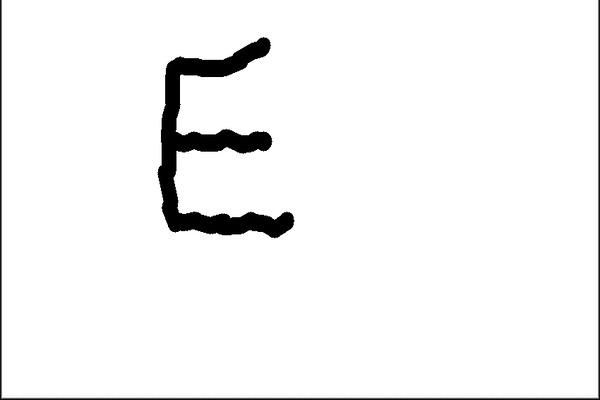E: (150, 33, 305, 245)
